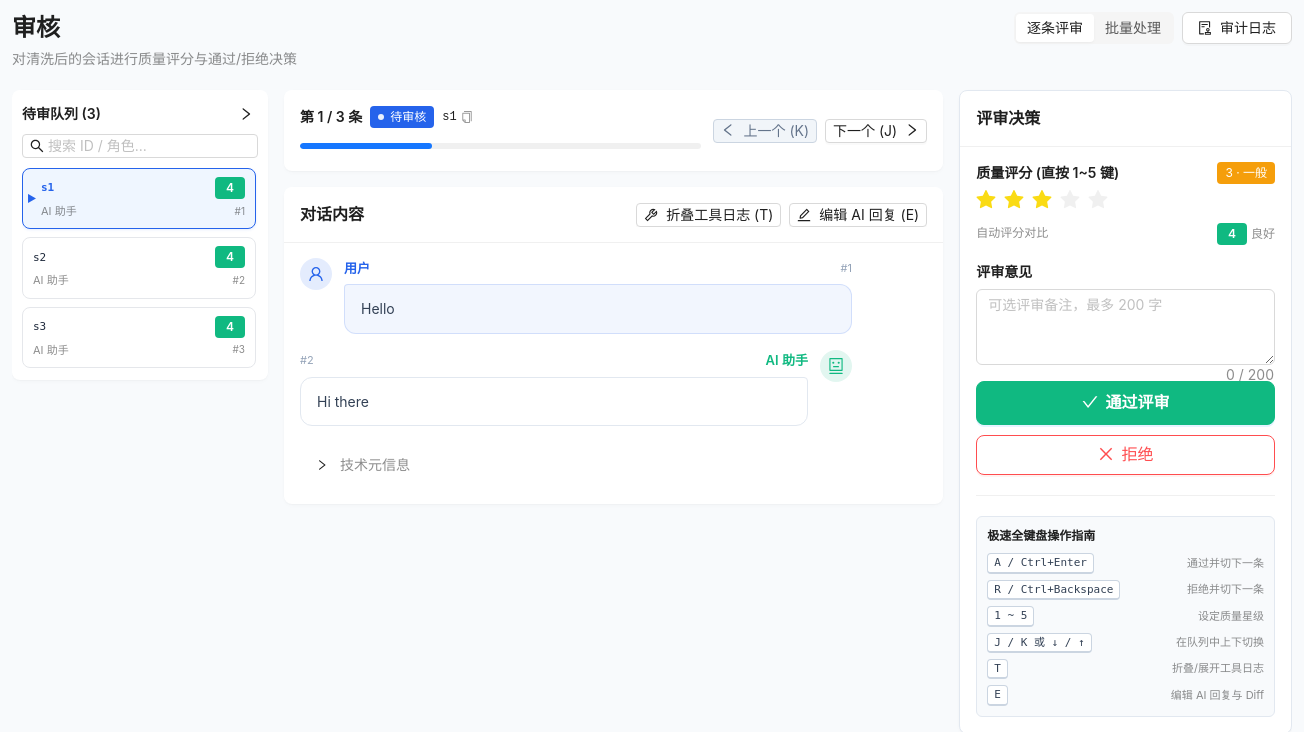
Test: Review Component › should approve current session and advance queue locally
Expected: the text "第 1 / 3 条" is shown, [300, 108, 362, 125]
Click the button "通过评审" at (1126, 402), box [976, 380, 1275, 424]
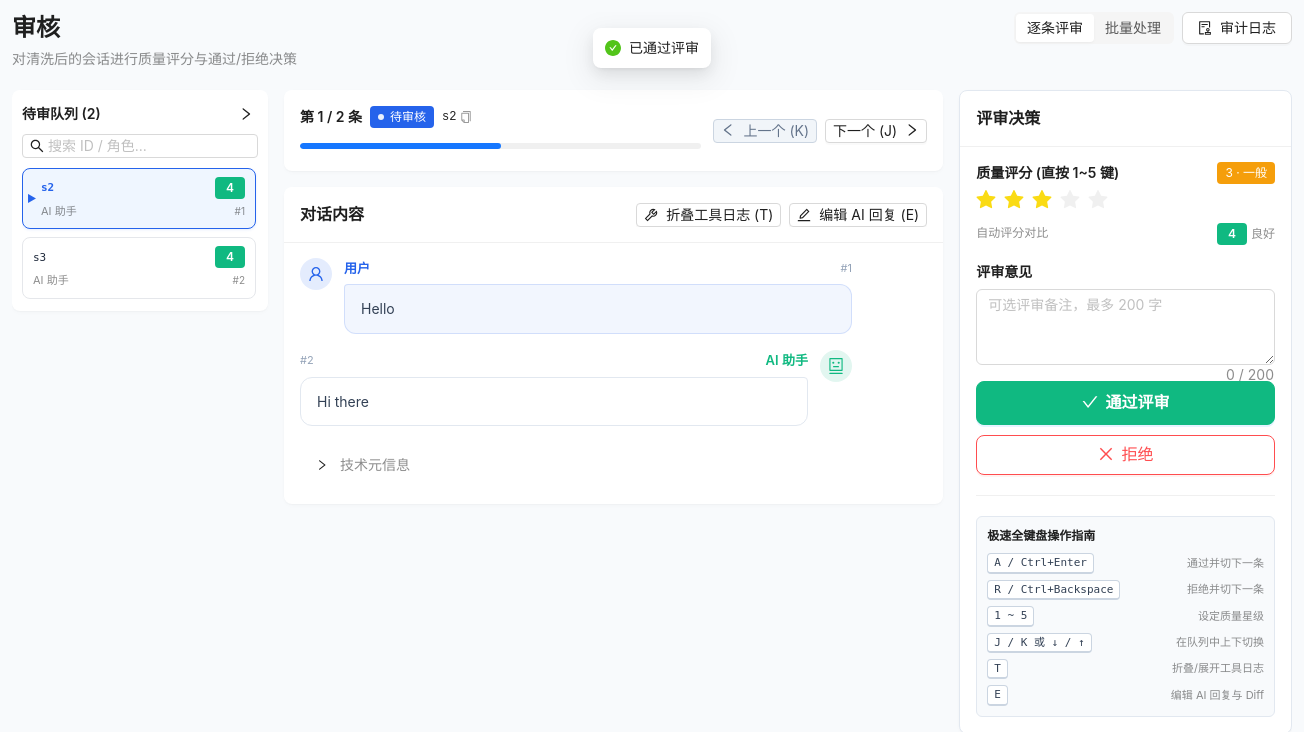
Expected: the text "第 1 / 2 条" is shown, [300, 108, 362, 125]
